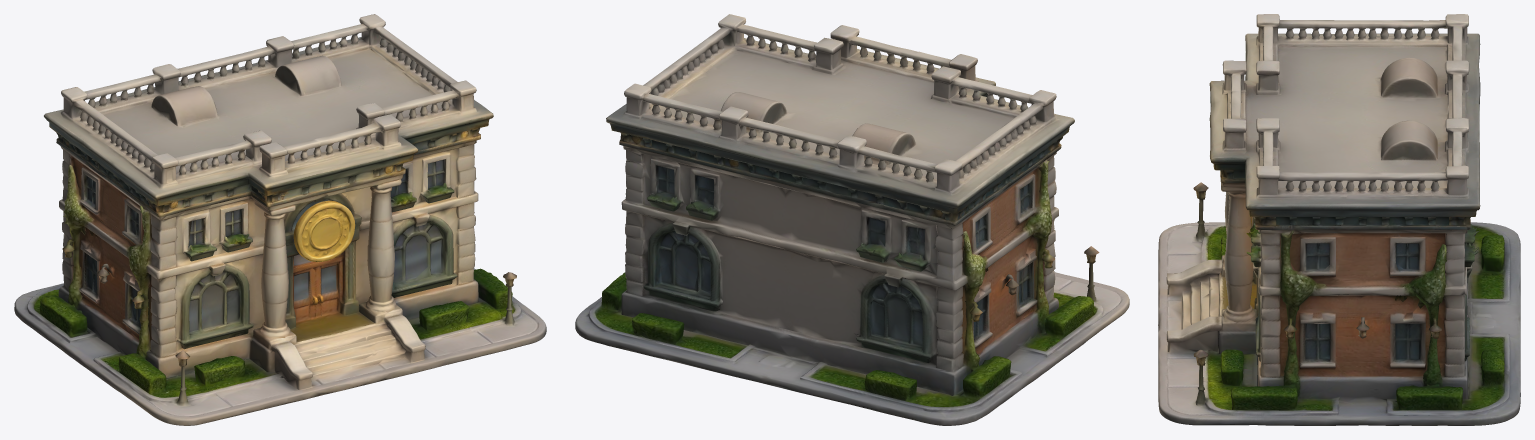
The model's file is bank.glb.
The picture shows the model from 3 angles, left to right: view 1: azimuth 30°, elevation 25°; view 2: azimuth 150°, elevation 25°; view 3: azimuth 270°, elevation 25°; orthographic projection. The views are drawn at different scales.
Parts seen in each view (by area): view 1: tripo_node_9a193239-6a53-4c1f-9297-19f703019e7c; view 2: tripo_node_9a193239-6a53-4c1f-9297-19f703019e7c; view 3: tripo_node_9a193239-6a53-4c1f-9297-19f703019e7c.
Boxes of the visible parts, x1,y1,x2,y2 form: tripo_node_9a193239-6a53-4c1f-9297-19f703019e7c: (14, 14, 546, 425); tripo_node_9a193239-6a53-4c1f-9297-19f703019e7c: (575, 14, 1129, 425); tripo_node_9a193239-6a53-4c1f-9297-19f703019e7c: (1158, 14, 1520, 425).
Size of the model in its own units: 1 by 0.5521 by 0.7752.
Materials: 1 (1 with a texture image).
